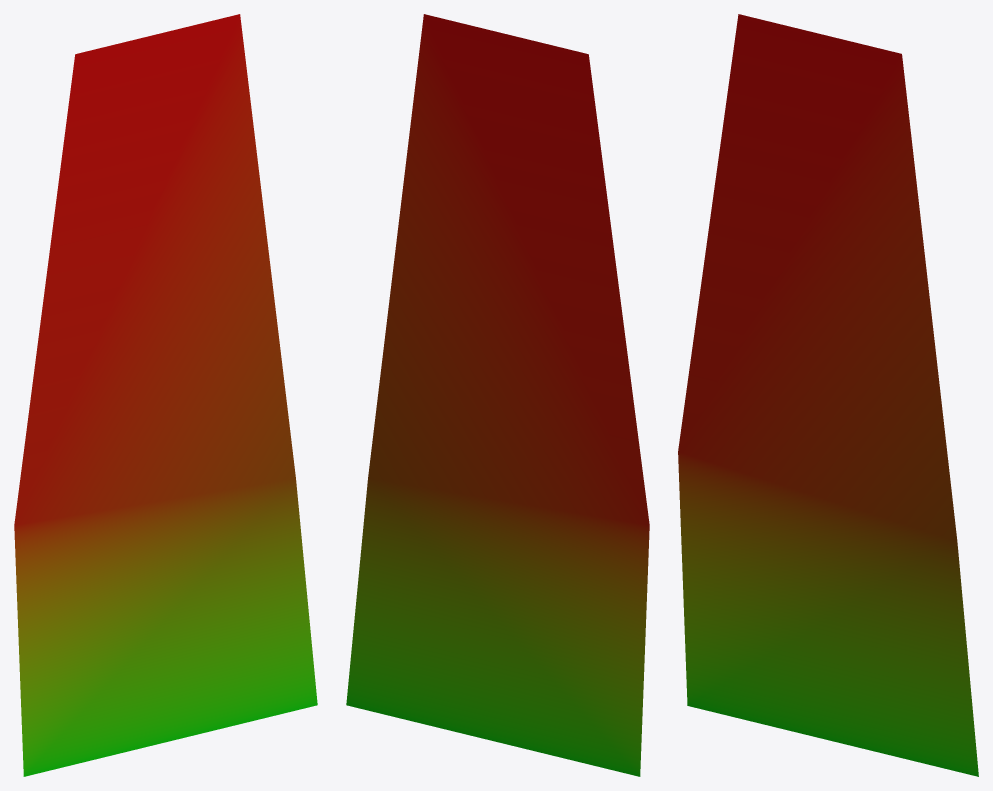
The model's file is Var6_LOD3.fbx.
3 renders of one model, left to right at view 1: azimuth 30°, elevation 25°; view 2: azimuth 150°, elevation 25°; view 3: azimuth 330°, elevation 25°, orthographic.
Visible parts, largest first — view 1: _61c4_Var6_LOD3; view 2: _61c4_Var6_LOD3; view 3: _61c4_Var6_LOD3.
Boxes of the visible parts, <box> form: _61c4_Var6_LOD3: <box>14,14,317,776</box>; _61c4_Var6_LOD3: <box>346,14,649,776</box>; _61c4_Var6_LOD3: <box>678,14,978,776</box>.
Size of the model in its own units: 26.35 by 58.94 by 9.18e-06.
